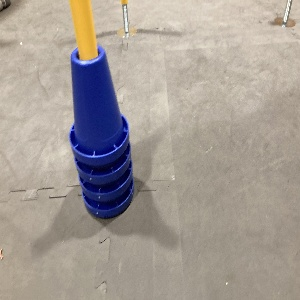Blue_4: (68, 43, 134, 218)
